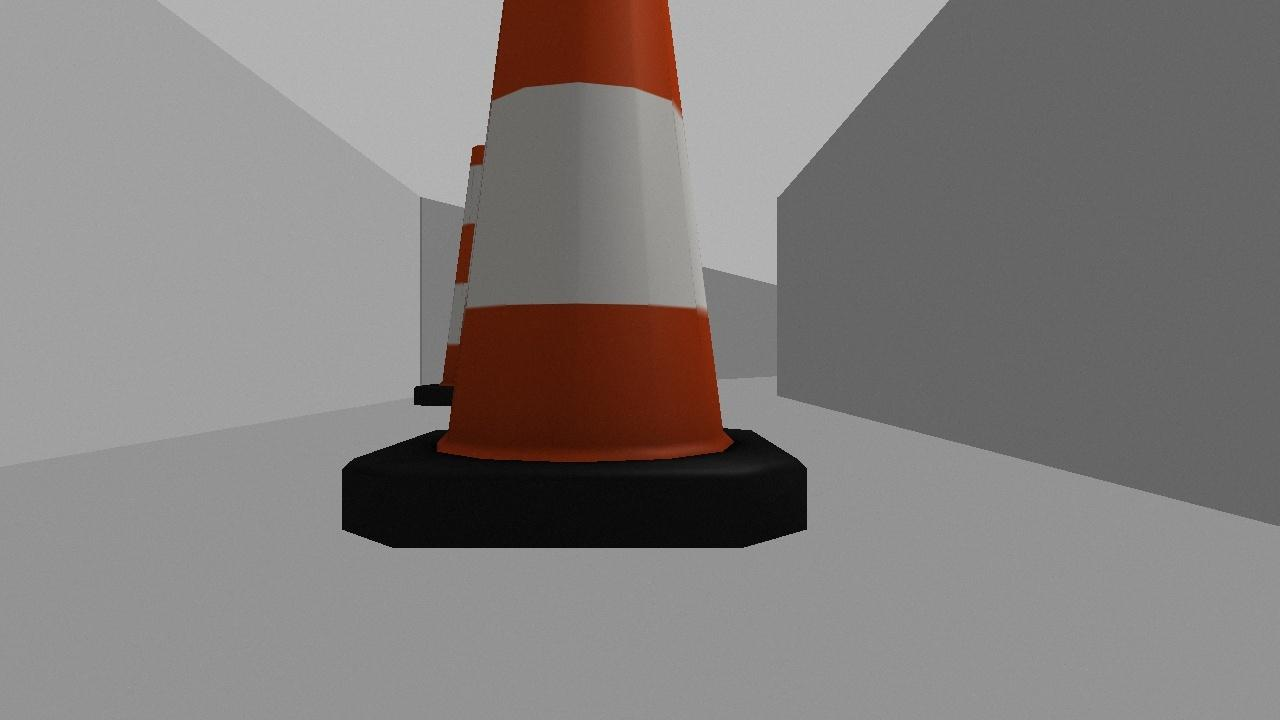cone_barrel: (312, 0, 838, 566), (394, 125, 529, 413)
